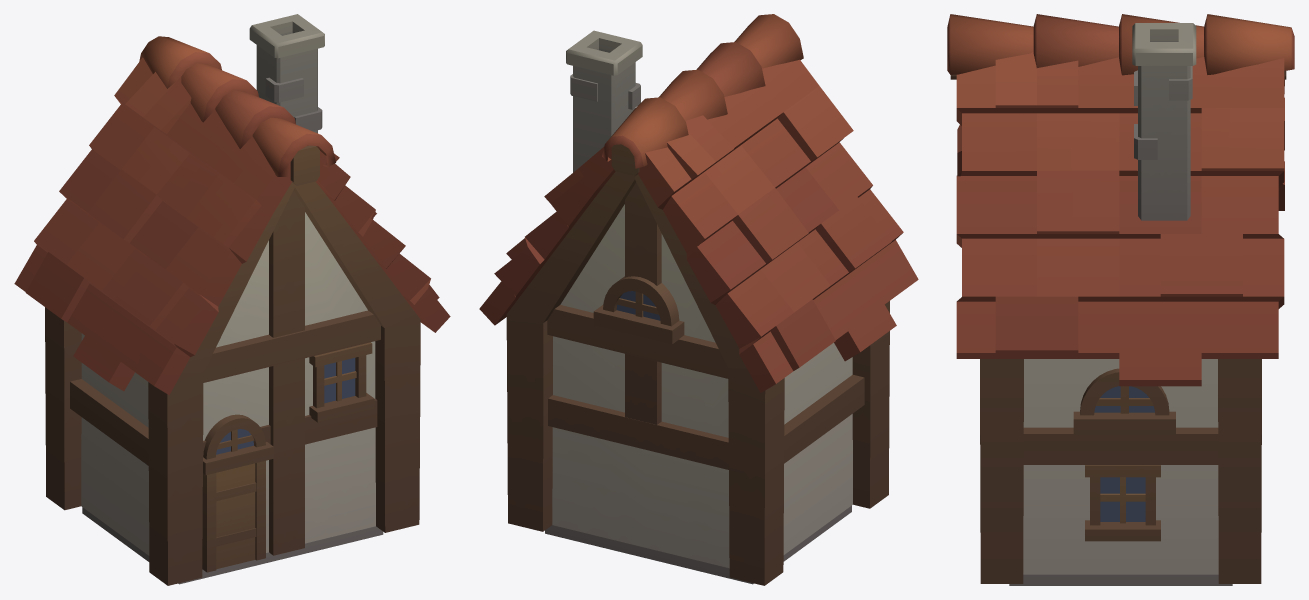
Rendered from chonkyHouse3.fbx.
3 views of the same model, side by side, from view 1: azimuth 30°, elevation 25°; view 2: azimuth 150°, elevation 25°; view 3: azimuth 270°, elevation 25° (orthographic). The views are drawn at different scales.
Parts seen in each view (by area): view 1: chonkyHouse2; view 2: chonkyHouse2; view 3: chonkyHouse2.
Boxes of the visible parts, x1=… form: chonkyHouse2: x1=14, y1=14, x2=450, y2=585; chonkyHouse2: x1=479, y1=14, x2=918, y2=585; chonkyHouse2: x1=947, y1=14, x2=1294, y2=585.
Bounding box in the file's own units: 374 × 522 × 308.
